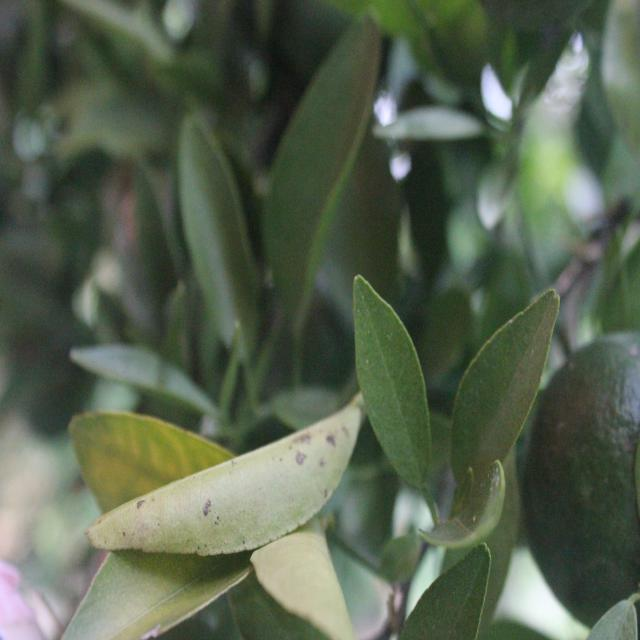melanose: (83, 403, 356, 561)
